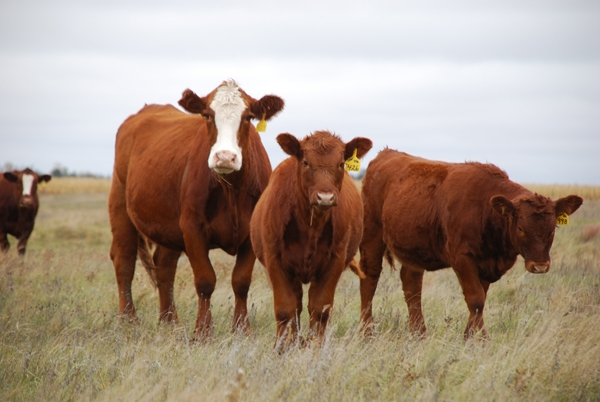cow: (98, 79, 277, 341), (362, 139, 568, 345), (250, 126, 366, 353)
